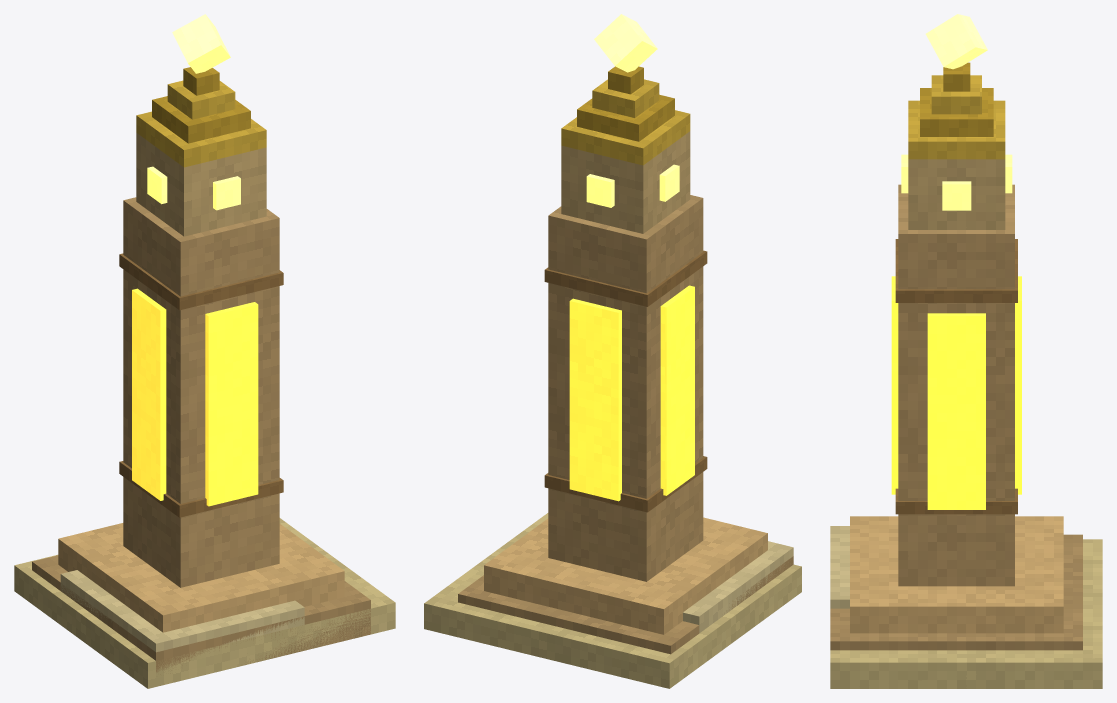
File: obelisk_desert.glb
The picture shows the model from 3 angles, left to right: view 1: azimuth 30°, elevation 25°; view 2: azimuth 150°, elevation 25°; view 3: azimuth 270°, elevation 25°; orthographic projection. The views are drawn at different scales.
Parts seen in each view (by area): view 1: Obelisk; view 2: Obelisk; view 3: Obelisk.
Part boxes in pixels (box(x1,y1,x2,y2)): Obelisk: box(14, 14, 395, 688); Obelisk: box(424, 14, 801, 688); Obelisk: box(830, 14, 1102, 688).
Size of the model in its own units: 1.5 by 3.47 by 1.4.
Materials: 12 (12 with a texture image).
